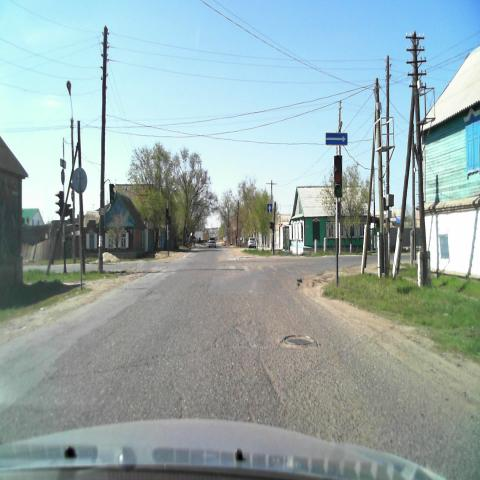5_7_1: (325, 132, 348, 146)
